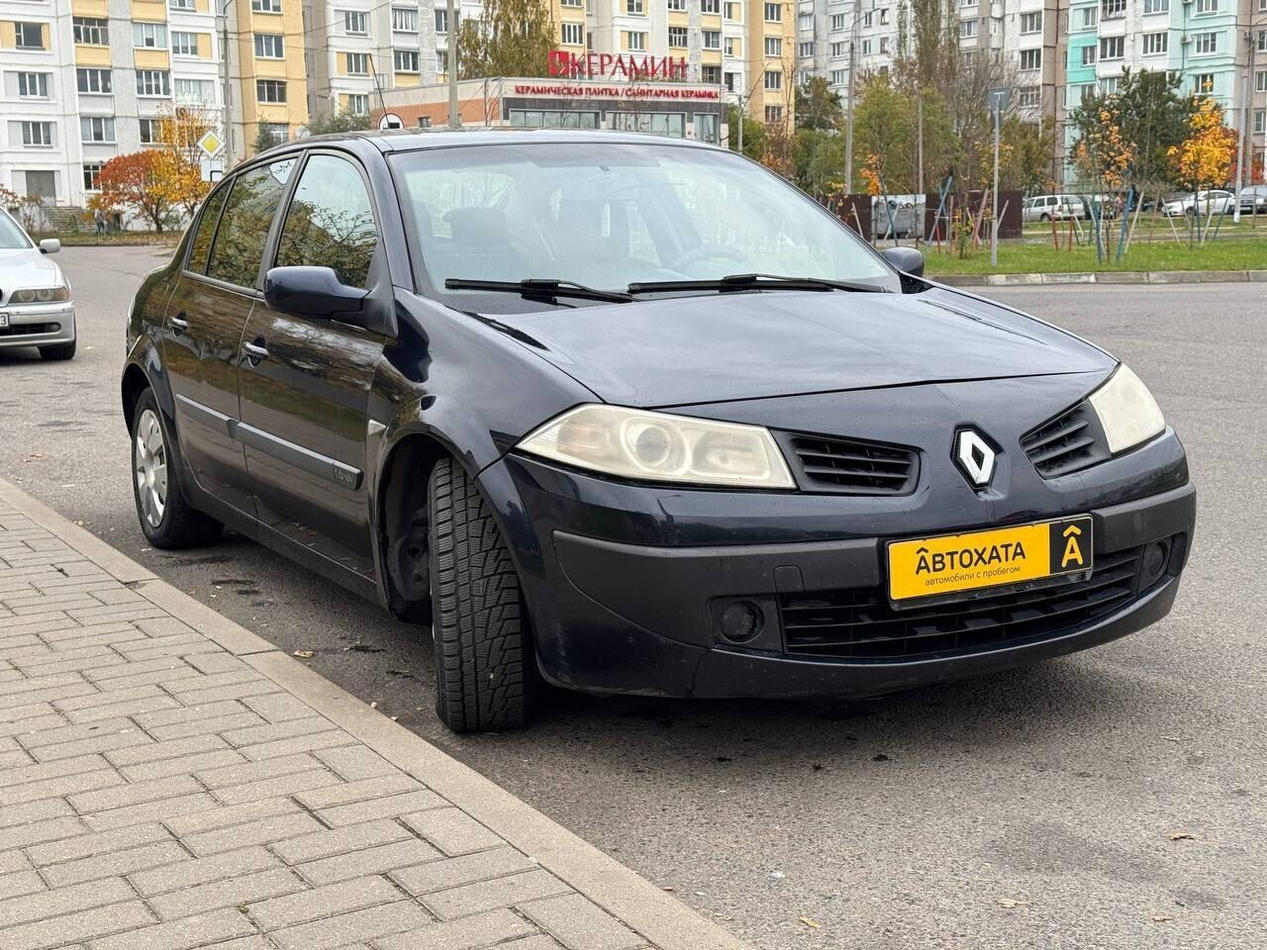Megane_2005-2009: (106, 124, 1193, 732)
